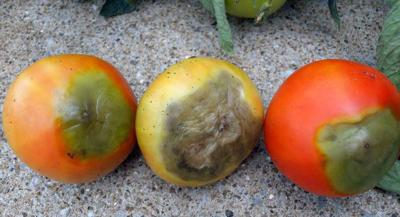blossom_rotw: (47, 64, 131, 167)
